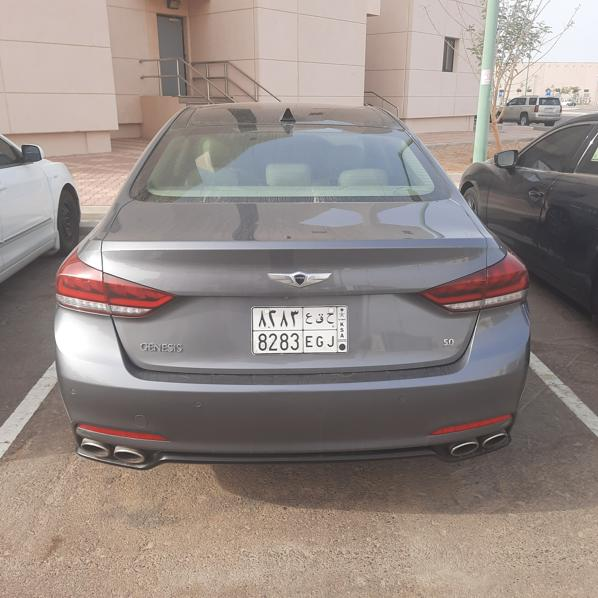numberplate: (252, 306, 348, 354)
